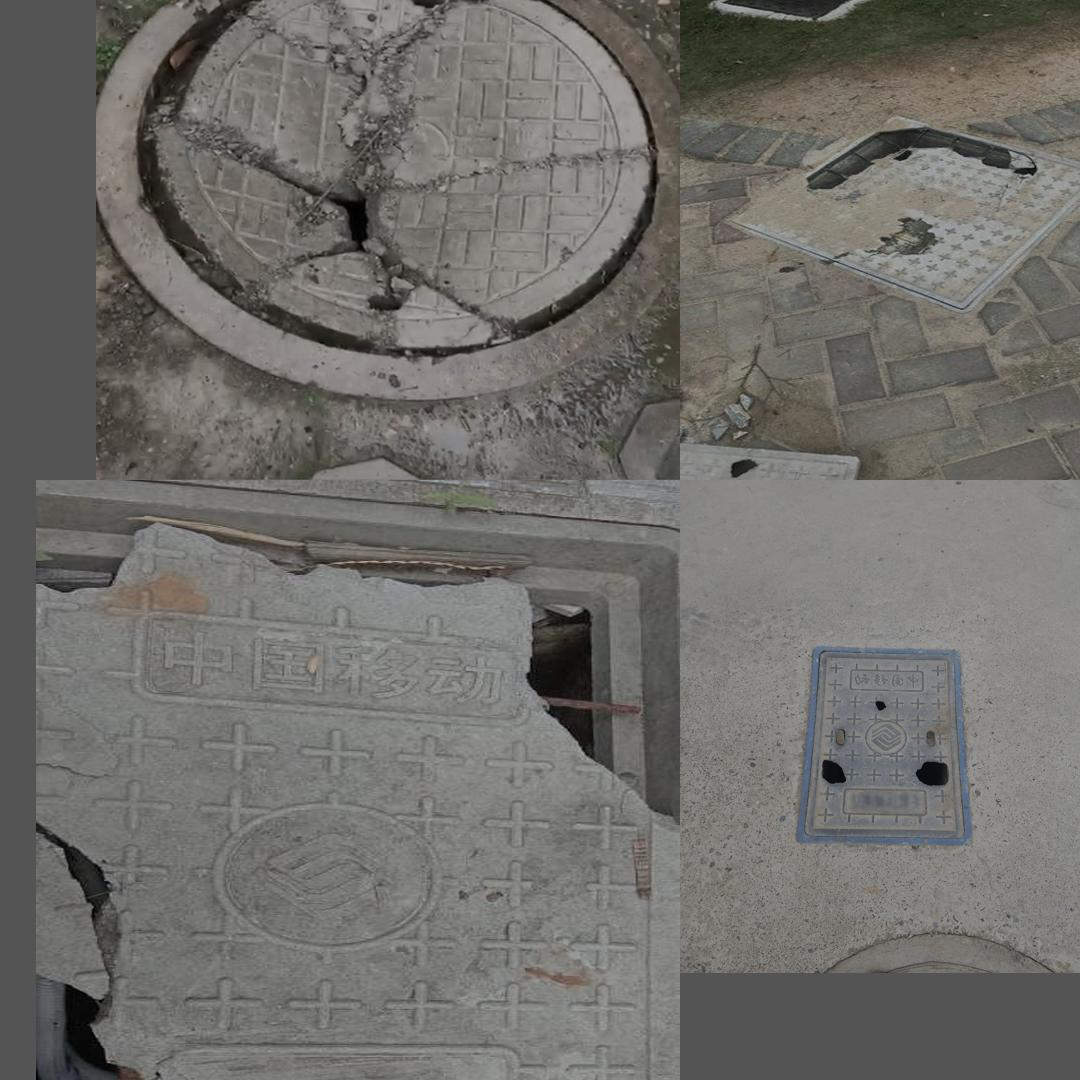broke: (38, 495, 680, 1080), (135, 0, 664, 361), (736, 103, 1080, 321), (794, 645, 970, 845)
